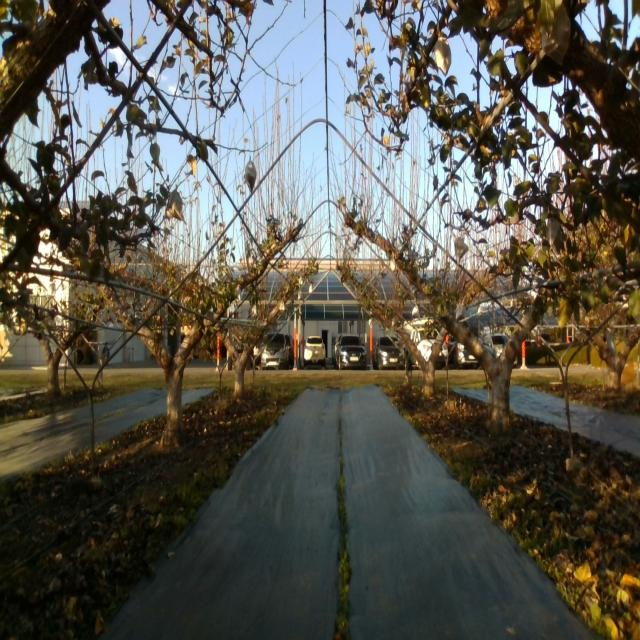pearbags: (164, 188, 187, 224), (434, 36, 452, 74), (244, 160, 256, 195), (454, 236, 468, 265), (456, 303, 466, 321)
